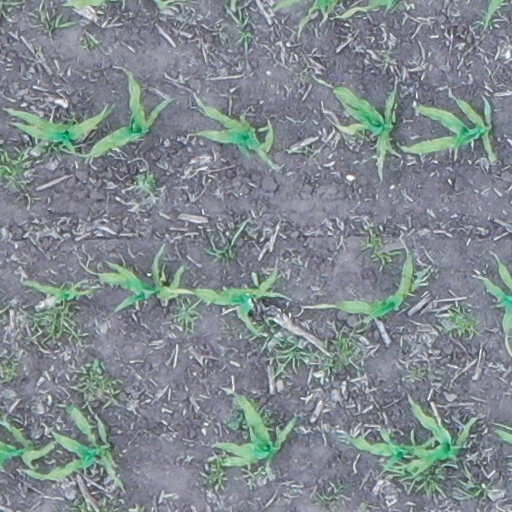planta: (81, 71, 176, 161), (191, 259, 292, 340), (317, 255, 415, 326), (95, 241, 192, 312), (398, 96, 498, 164), (331, 84, 400, 182), (397, 399, 476, 483), (212, 392, 297, 468), (196, 102, 278, 171), (7, 105, 108, 157), (23, 430, 109, 483), (337, 426, 418, 478), (22, 277, 82, 307), (66, 403, 98, 444), (400, 468, 407, 475)
